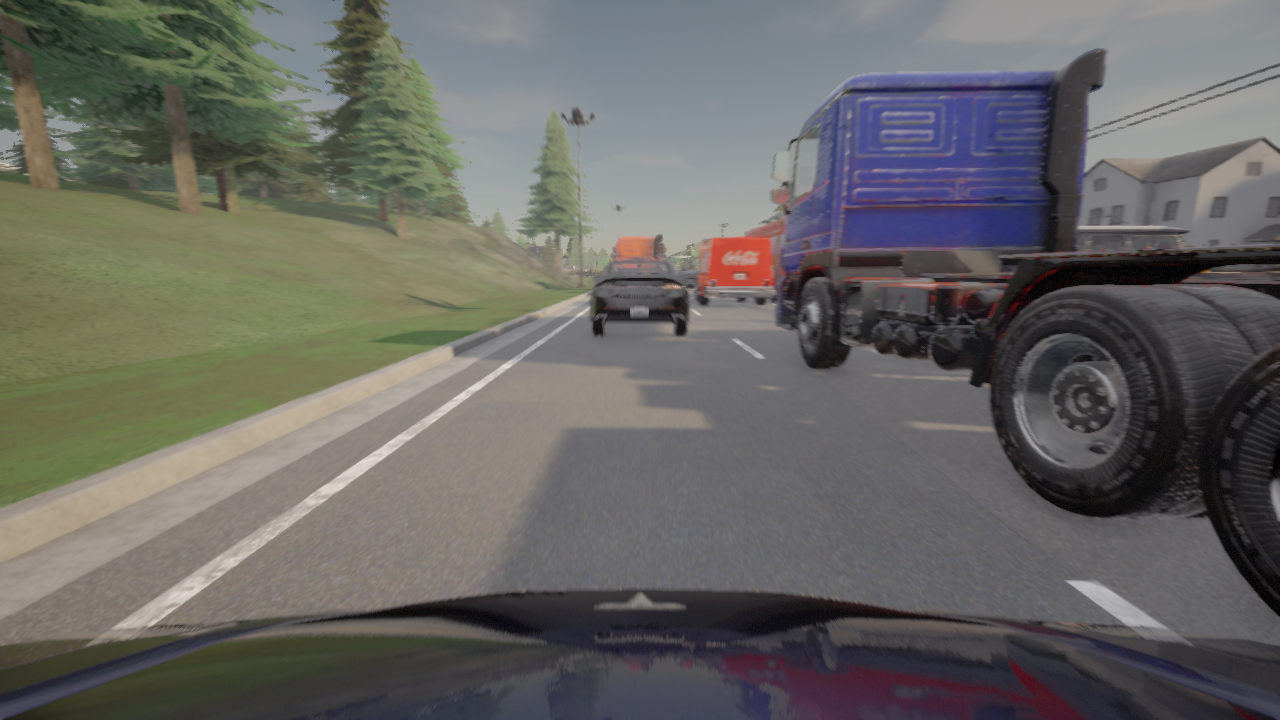cyclist: (770, 49, 1279, 617), (0, 588, 1279, 719), (590, 258, 689, 335), (1073, 225, 1202, 276), (691, 237, 774, 305), (745, 211, 785, 301), (613, 235, 665, 259), (678, 268, 698, 287)
